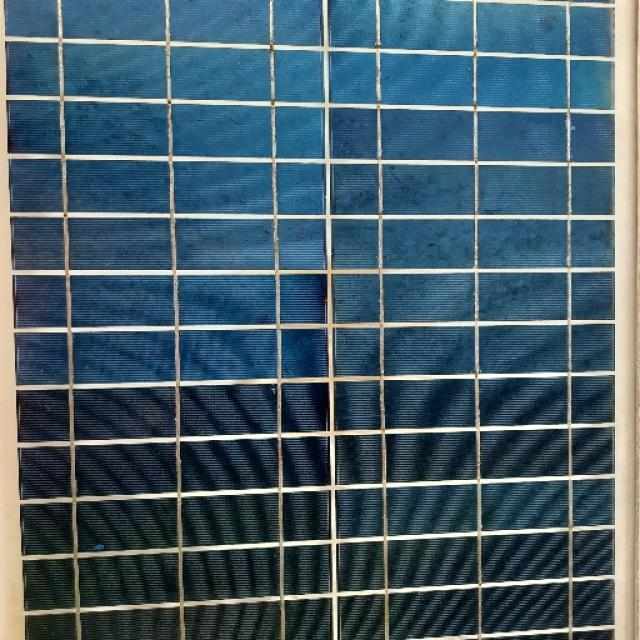Clean: (0, 1, 639, 610)
